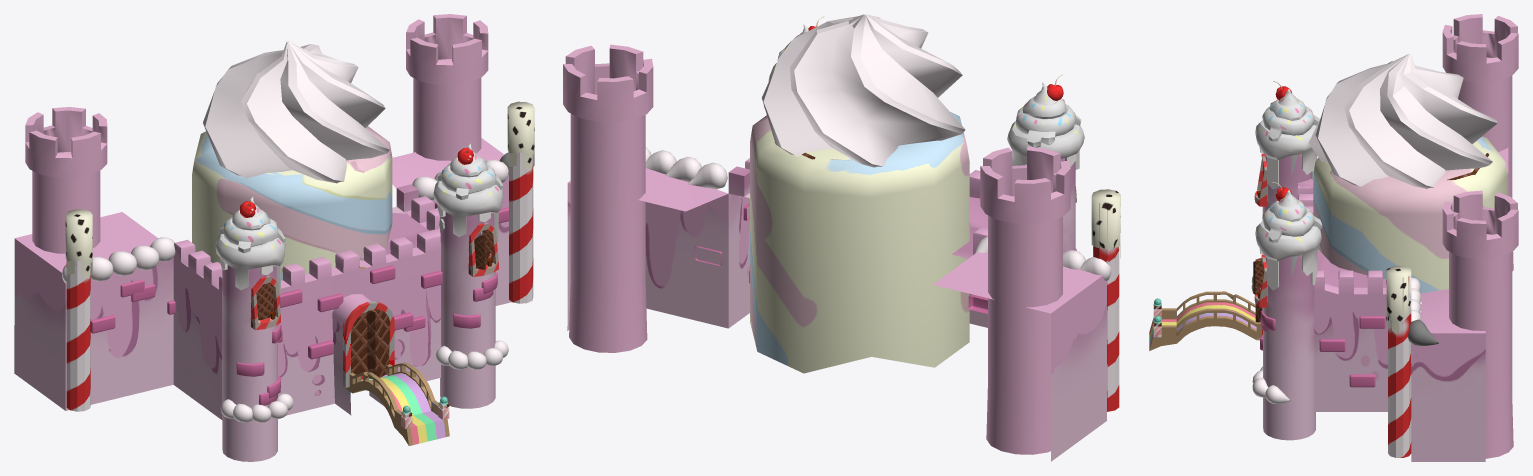
File: 리모델.fbx
The picture shows the model from 3 angles, left to right: view 1: azimuth 30°, elevation 25°; view 2: azimuth 150°, elevation 25°; view 3: azimuth 270°, elevation 25°; orthographic projection. The views are drawn at different scales.
Parts seen in each view (by area): view 1: Object043, Cylinder083, Cylinder082, Cylinder084, Object045 (×2), Box290, Object048, Object049, Sphere102, Sphere101; view 2: Object043, Cylinder082, Cylinder083, Cylinder084, Object048, Object049, Sphere094, Sphere093; view 3: Object043, Cylinder083, Cylinder082, Cylinder084, Object045 (×2), Box290, Sphere074.
Boxes of the visible parts, <box> form: Object043: <box>14,126,511,461</box>; Cylinder083: <box>203,41,389,183</box>; Cylinder082: <box>406,14,488,160</box>; Cylinder084: <box>25,107,107,253</box>; Object045 (×2): <box>507,101,534,303</box>; Box290: <box>236,265,497,405</box>; Object048: <box>66,260,90,411</box>; Object049: <box>65,209,92,278</box>; Sphere102: <box>108,251,136,275</box>; Sphere101: <box>131,245,159,270</box>; Object043: <box>567,16,1106,461</box>; Cylinder082: <box>563,44,653,352</box>; Cylinder083: <box>762,14,965,167</box>; Cylinder084: <box>980,146,1070,454</box>; Object048: <box>1093,203,1119,411</box>; Object049: <box>1091,189,1120,257</box>; Sphere094: <box>688,162,727,189</box>; Sphere093: <box>665,156,701,181</box>; Object043: <box>1149,81,1508,461</box>; Cylinder083: <box>1308,53,1497,188</box>; Cylinder082: <box>1442,190,1518,458</box>; Cylinder084: <box>1442,14,1518,271</box>; Object045 (×2): <box>1386,265,1411,457</box>; Box290: <box>1260,213,1385,387</box>; Sphere074: <box>1408,319,1438,345</box>.
Bounding box in the file's own units: 1206 × 831 × 867.
